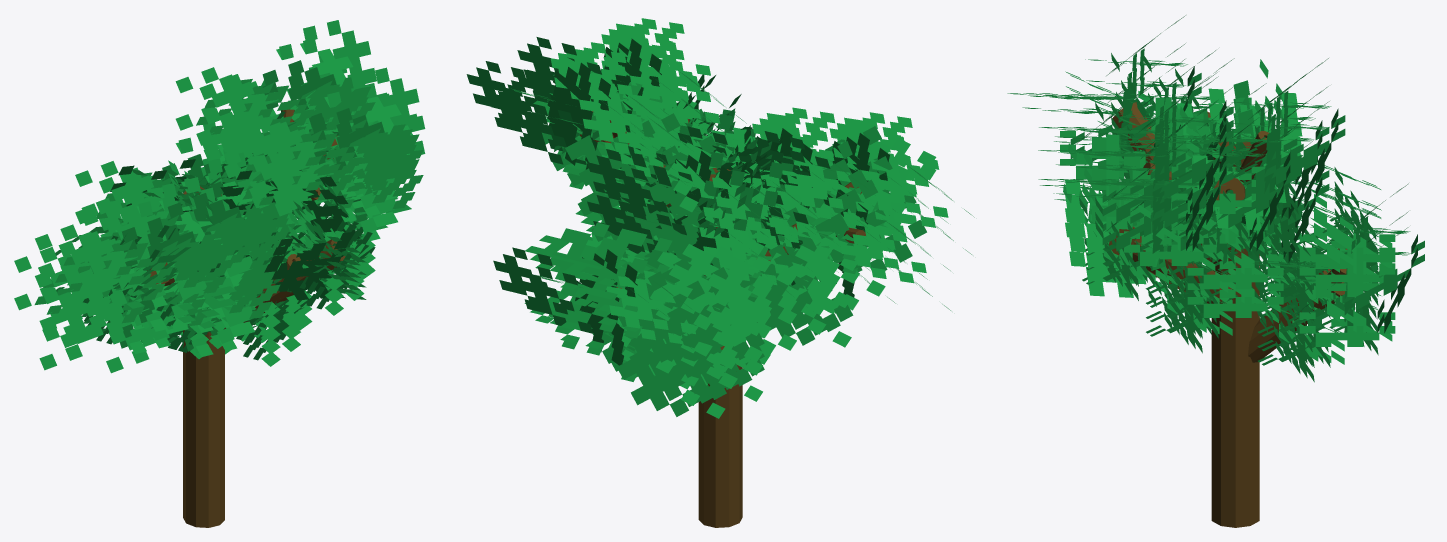
File: Tree.gltf
3 views of the same model, side by side, from view 1: azimuth 30°, elevation 25°; view 2: azimuth 150°, elevation 25°; view 3: azimuth 270°, elevation 25° (orthographic). The views are drawn at different scales.
Visible parts, largest first — view 1: tube; view 2: tube; view 3: tube.
Boxes of the visible parts, box(x1,y1,x2,y2) form: tube: box(14, 20, 425, 527); tube: box(466, 18, 974, 527); tube: box(1007, 15, 1424, 527).
Size of the model in its own units: 2.06 by 2.13 by 1.67.
3 materials, 3 textured.
